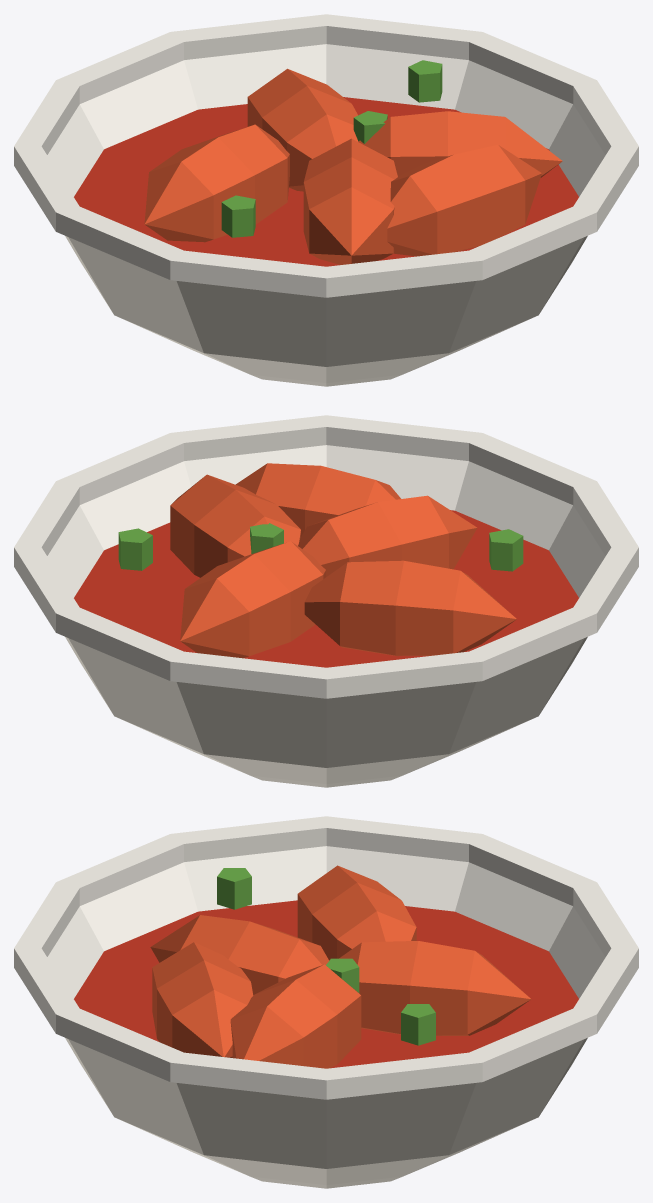
File: Food_Tteokbokki.obj
The picture shows the model from 3 angles, top to bottom: view 1: azimuth 30°, elevation 25°; view 2: azimuth 150°, elevation 25°; view 3: azimuth 270°, elevation 25°; orthographic projection.
Bounding box in the file's own units: 2.04 × 0.7436 × 2.04.
